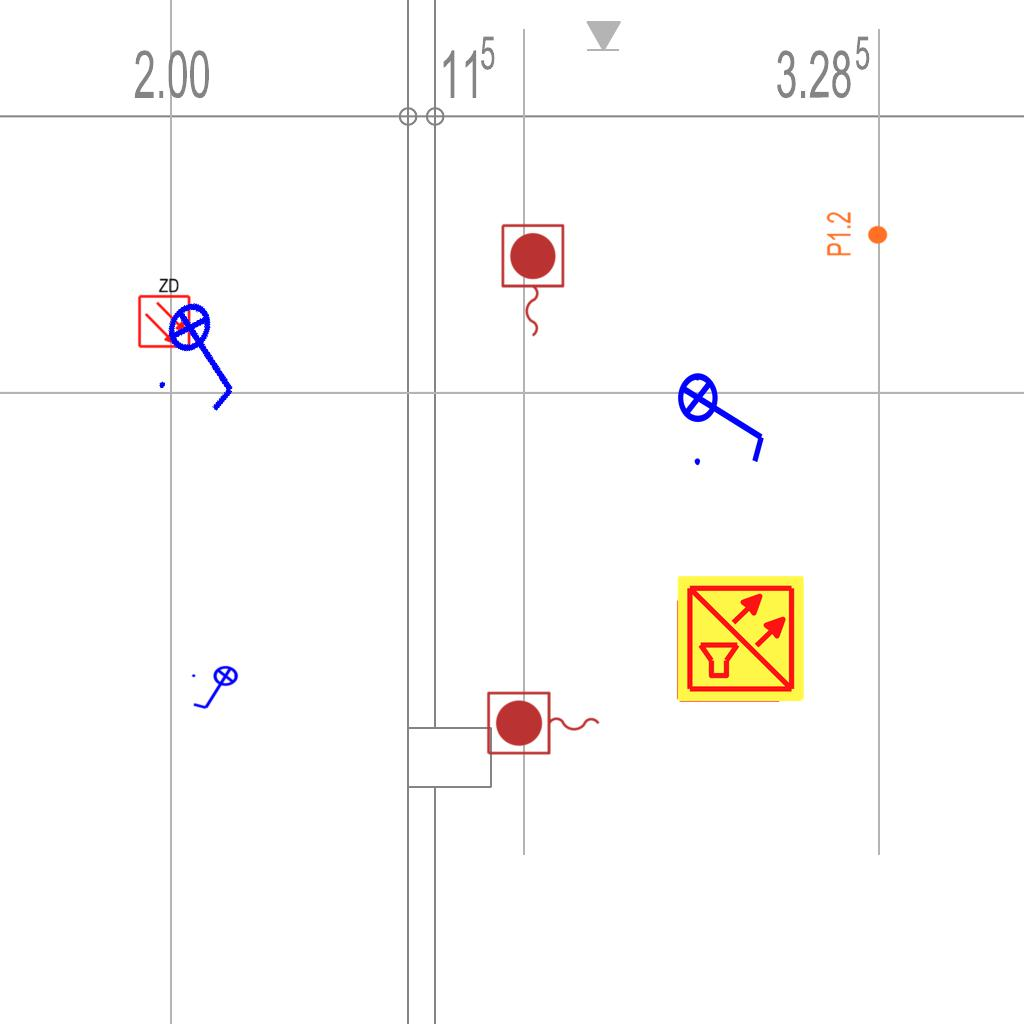Ausschalter_beleuchtet: (138, 282, 274, 426), (676, 359, 772, 471), (189, 665, 245, 713)
Downlight_LED_Einbauleuchten_Flur: (825, 211, 889, 257)
OKW_Multisensormelder_(Kombination_optischer_Rauch-Kahlenmonoxid_Waerme-Melder): (675, 573, 807, 705)
ZD_Melder_in_Zwischendecke_mit_Revisionsoeffnung_mind_40_x_40_cm: (135, 275, 192, 349)
Zugtaster: (496, 220, 568, 342), (483, 688, 605, 760)
